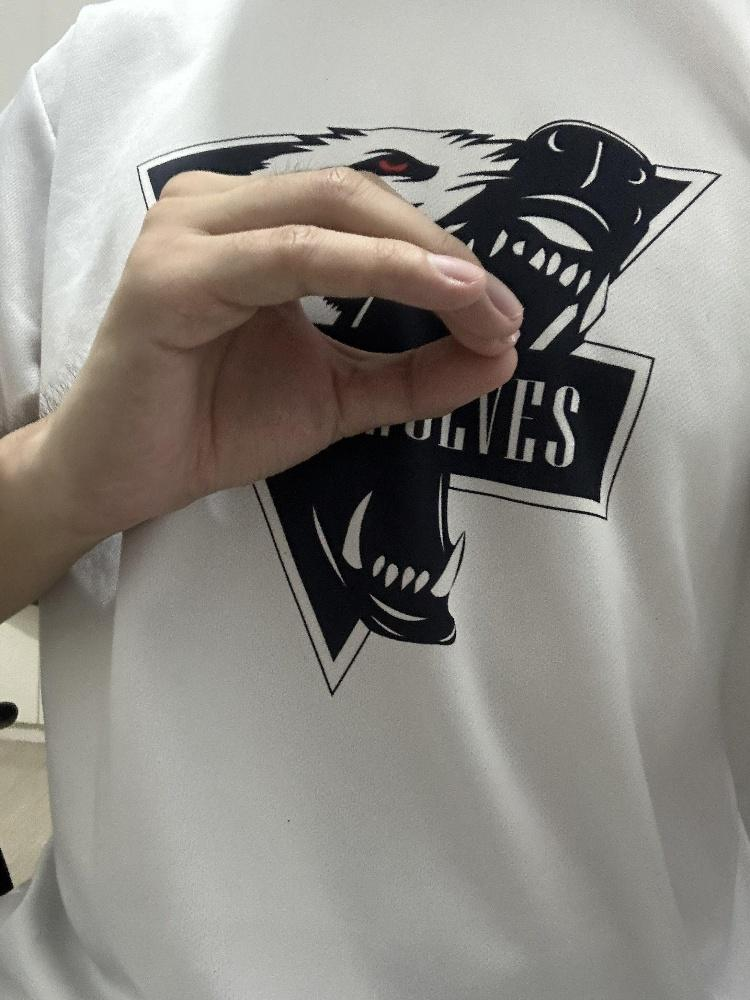o: (54, 162, 528, 532)
